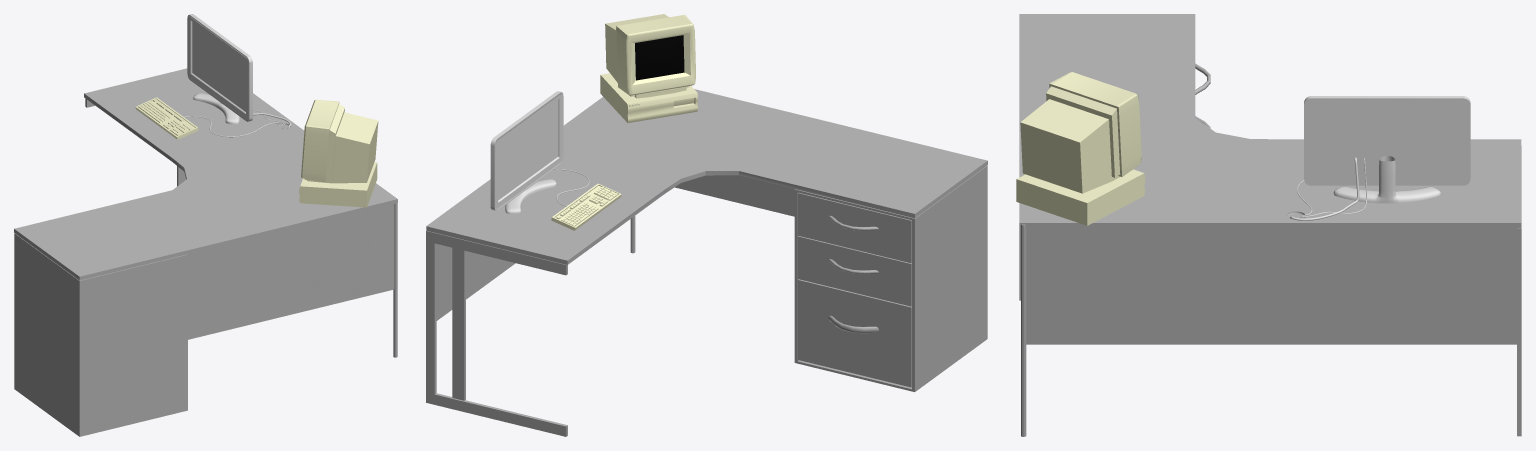
The model's file is Desk.fbx.
3 views of the same model, side by side, from view 1: azimuth 30°, elevation 25°; view 2: azimuth 150°, elevation 25°; view 3: azimuth 270°, elevation 25° (orthographic). The views are drawn at different scales.
Visible parts, largest first — view 1: polySurface4.001, Plane.002, pCube3.001, polySurface1.001, pCube1.001, Plane.001, pCube29.002, Cube.001; view 2: polySurface4.001, polySurface7.005, polySurface7.011, pTorus1.006, polySurface1.001, Plane.002, pCube1.001, Plane.001, polySurface2.001, pCube29.002, pCube3.001, Cube.001; view 3: polySurface4.001, Plane.001, pCube3.001, polySurface1.001, pCube1.001, Cube.001.
Part boxes in pixels (x1=…): polySurface4.001: x1=14, y1=68, x2=397, y2=436; Plane.002: x1=192, y1=22, x2=245, y2=111; pCube3.001: x1=307, y1=112, x2=378, y2=183; polySurface1.001: x1=301, y1=99, x2=344, y2=182; pCube1.001: x1=299, y1=162, x2=377, y2=207; Plane.001: x1=187, y1=14, x2=252, y2=121; pCube29.002: x1=135, y1=97, x2=198, y2=139; Cube.001: x1=193, y1=93, x2=239, y2=124; polySurface4.001: x1=426, y1=89, x2=987, y2=436; polySurface7.005: x1=798, y1=279, x2=911, y2=387; polySurface7.011: x1=798, y1=236, x2=911, y2=306; pTorus1.006: x1=798, y1=192, x2=911, y2=263; polySurface1.001: x1=616, y1=14, x2=695, y2=95; Plane.002: x1=498, y1=100, x2=557, y2=199; pCube1.001: x1=600, y1=73, x2=697, y2=122; Plane.001: x1=490, y1=91, x2=563, y2=211; polySurface2.001: x1=635, y1=35, x2=684, y2=80; pCube29.002: x1=551, y1=183, x2=621, y2=230; pCube3.001: x1=605, y1=14, x2=689, y2=96; Cube.001: x1=505, y1=178, x2=556, y2=213; polySurface4.001: x1=1019, y1=14, x2=1521, y2=436; Plane.001: x1=1304, y1=96, x2=1470, y2=185; pCube3.001: x1=1020, y1=99, x2=1133, y2=193; polySurface1.001: x1=1046, y1=72, x2=1141, y2=177; pCube1.001: x1=1016, y1=169, x2=1145, y2=225; Cube.001: x1=1333, y1=155, x2=1440, y2=203.
Bounding box in the file's own units: 187 × 132 × 188.
